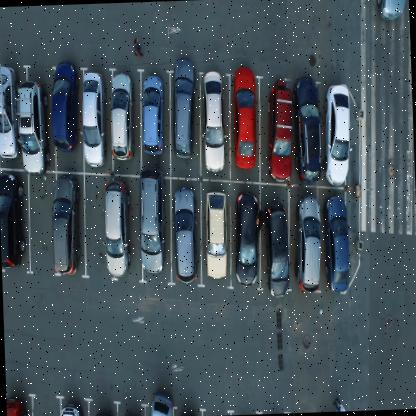Car: (323, 71, 363, 194), (196, 58, 234, 181), (226, 58, 263, 174), (264, 67, 298, 190), (234, 183, 267, 304), (292, 74, 327, 188), (294, 194, 328, 310), (167, 49, 199, 171), (322, 194, 356, 301), (200, 185, 232, 296), (14, 80, 48, 181), (48, 42, 80, 148), (262, 198, 294, 302), (170, 181, 198, 297), (54, 174, 84, 279), (104, 184, 134, 288), (0, 172, 29, 278), (81, 69, 109, 177), (140, 173, 168, 280), (138, 71, 168, 163), (108, 68, 134, 167), (0, 61, 17, 162), (150, 380, 178, 416), (6, 389, 32, 416), (55, 395, 85, 416)
Empty: (28, 180, 58, 278), (84, 185, 107, 282)
